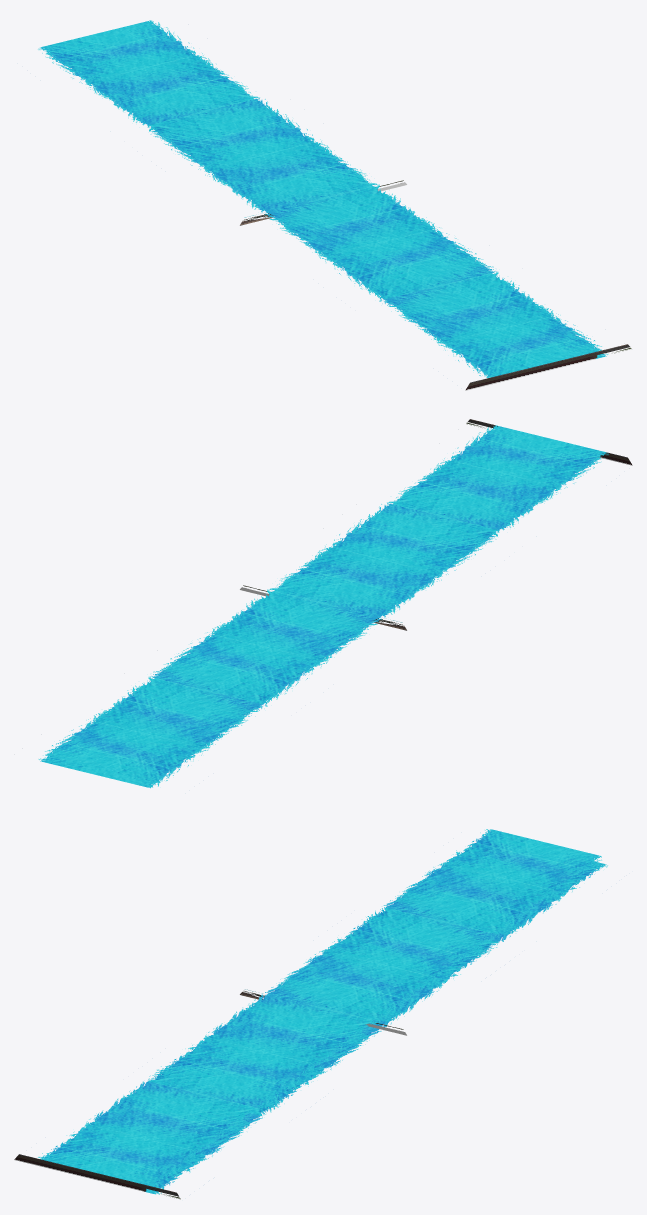
Rendered from MemeFactory_Bridge_Fragment_Art.glb.
3 renders of one model, top to bottom at view 1: azimuth 30°, elevation 25°; view 2: azimuth 150°, elevation 25°; view 3: azimuth 330°, elevation 25°, orthographic.
Parts seen in each view (by area): view 1: MemeFactory_Bridge_Fragment_Art; view 2: MemeFactory_Bridge_Fragment_Art; view 3: MemeFactory_Bridge_Fragment_Art.
Part boxes in pixels (x1,y1,x2,y2): MemeFactory_Bridge_Fragment_Art: (38,20,631,390); MemeFactory_Bridge_Fragment_Art: (38,419,632,788); MemeFactory_Bridge_Fragment_Art: (14,829,607,1199).
Size of the model in its own units: 3 by 0.1209 by 13.95.
1 material, 1 textured.
